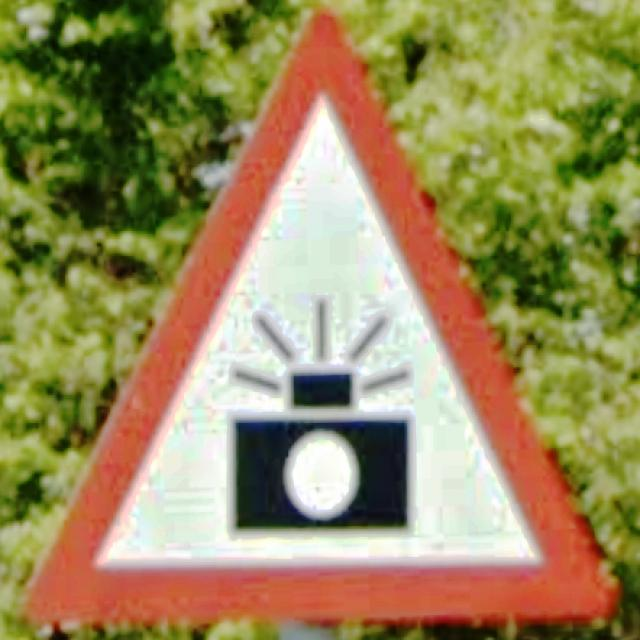speedcamera: (26, 8, 617, 629)
